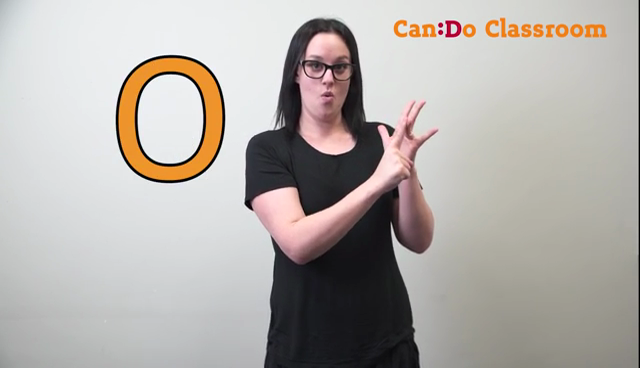O: (370, 90, 446, 196)
